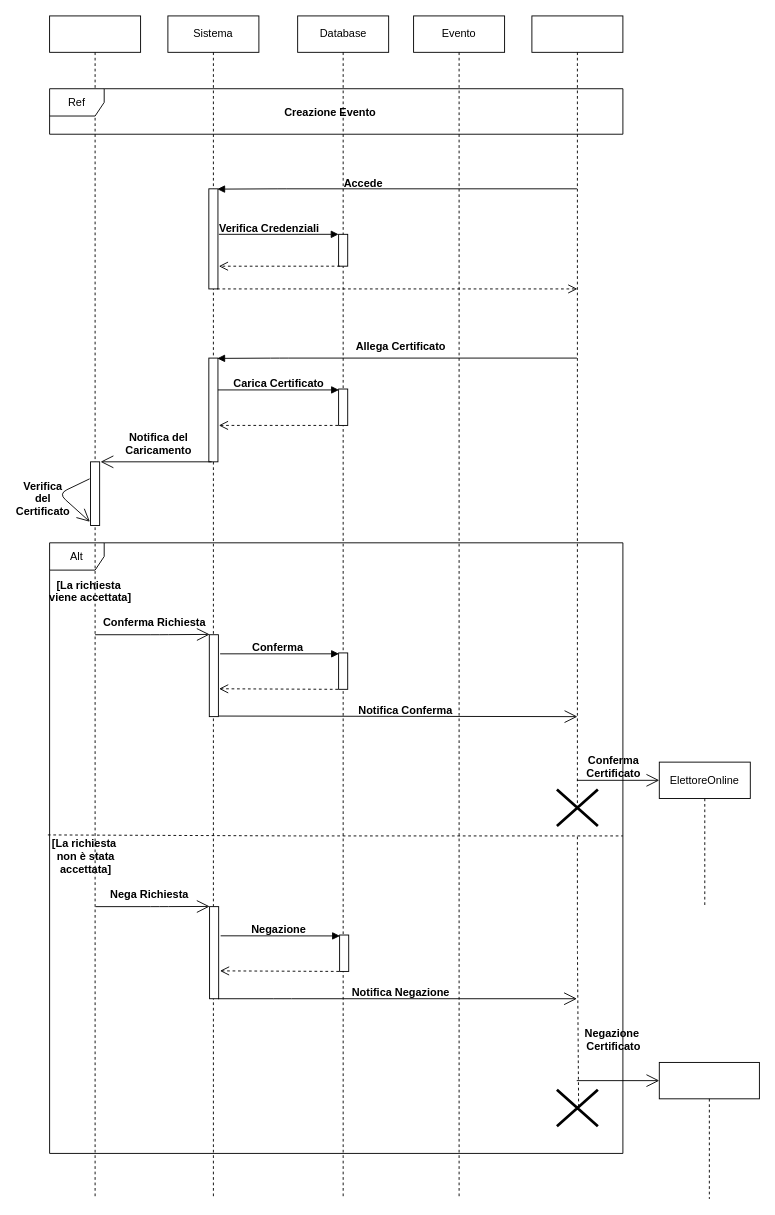
The diagram is 775 pixels wide and 1215 high, and some of its shapes have lost their labels. Here are the shapes that lost their labels. From the top down, the box of each, then its label:
(531, 15, 623, 808): Elettore
(49, 15, 141, 1199): Amministratore
(658, 1062, 759, 1199): ElettoreInPresenza
